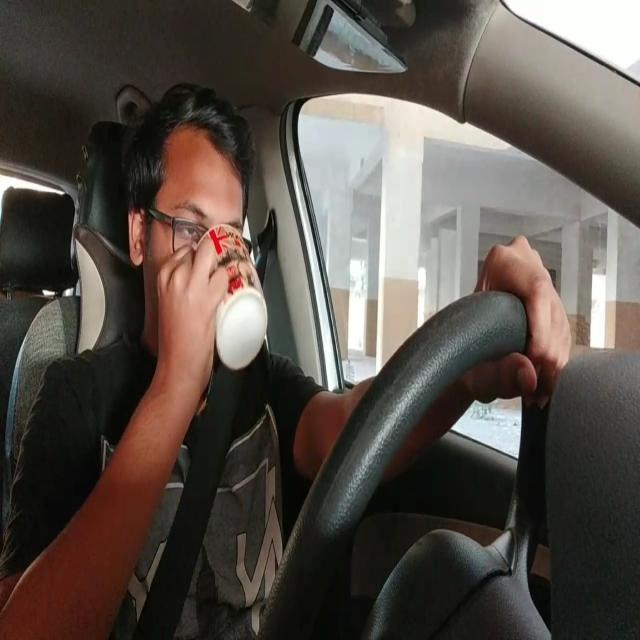Drinking: (128, 126, 269, 372)
